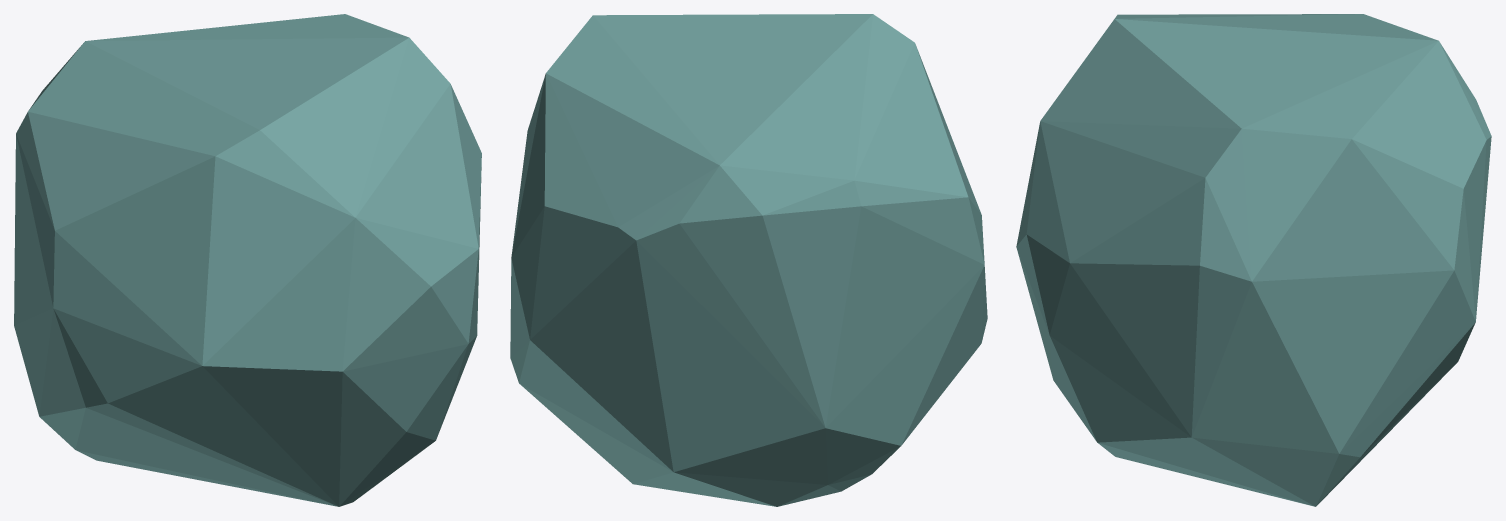
The model's file is food_produce_lime_a01.glb.
The picture shows the model from 3 angles, left to right: view 1: azimuth 30°, elevation 25°; view 2: azimuth 150°, elevation 25°; view 3: azimuth 270°, elevation 25°; orthographic projection.
Parts seen in each view (by area): view 1: geometry_0; view 2: geometry_0; view 3: geometry_0.
Part boxes in pixels (x1,y1,x2,y2): geometry_0: (14, 14, 481, 506); geometry_0: (510, 14, 987, 506); geometry_0: (1016, 14, 1491, 506).
Bounding box in the file's own units: 0.3962 × 0.3727 × 0.3805.
